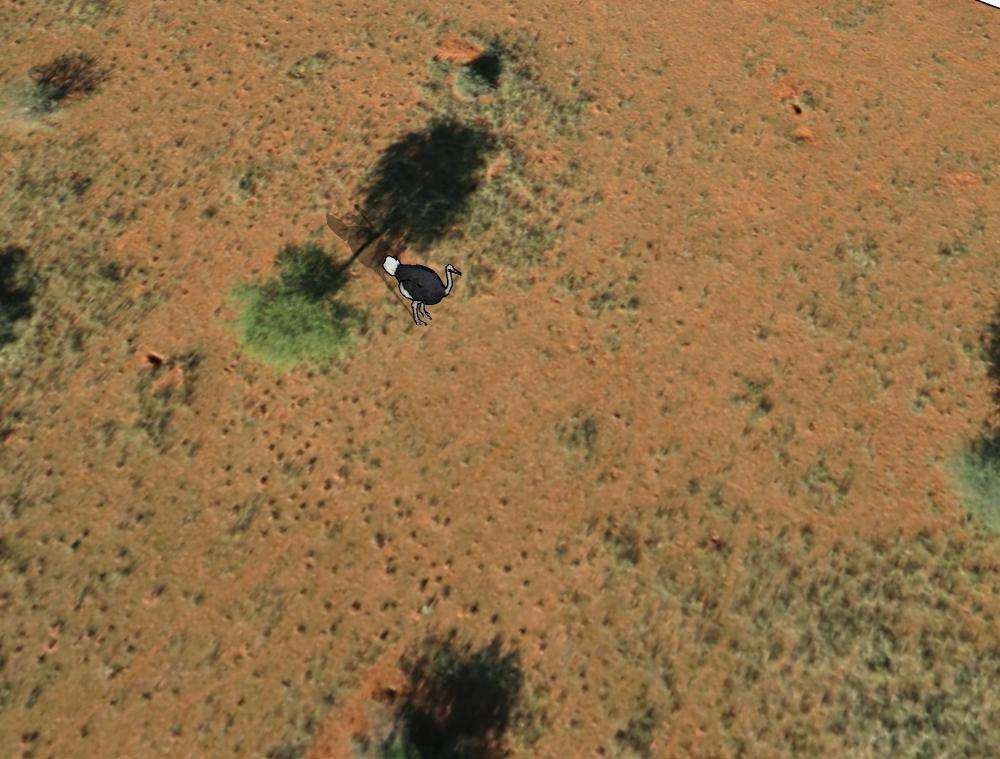springbok: (381, 252, 463, 330)
